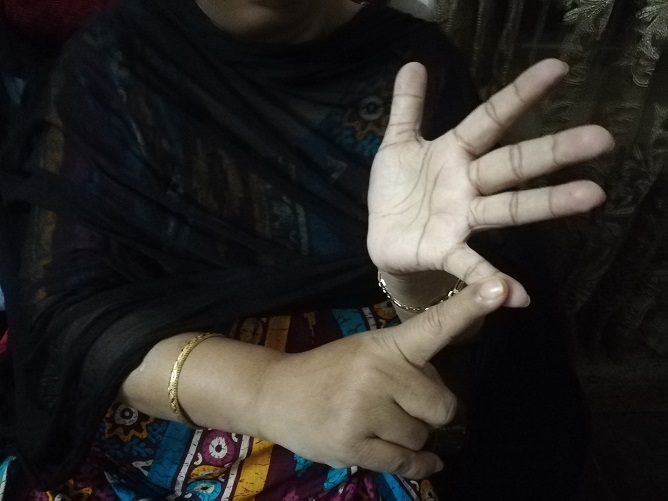i: (363, 59, 613, 430)
